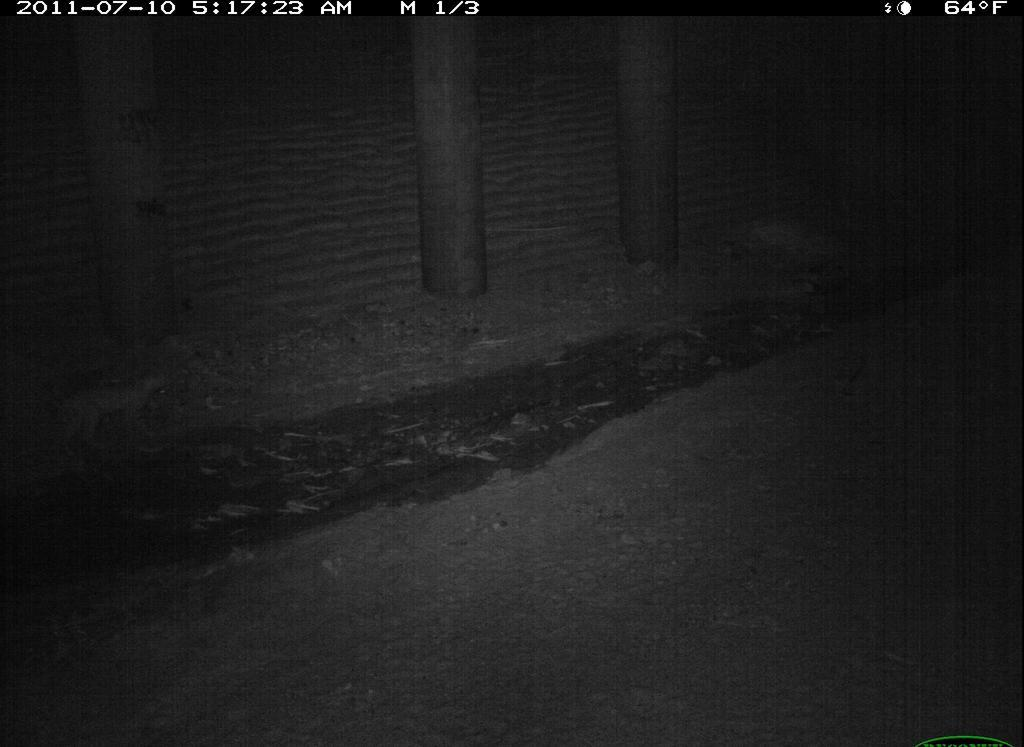bobcat: (105, 728, 345, 747)
